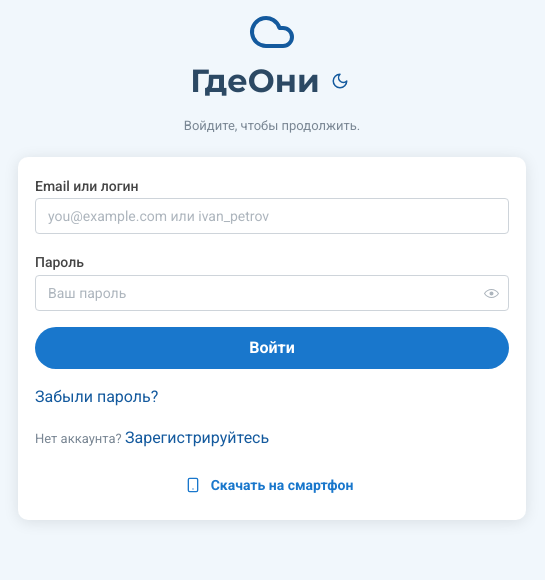
Scenario: LoginPage › shows validation errors for empty submit
Click the button "Войти": (272, 348) [35, 327, 509, 369]
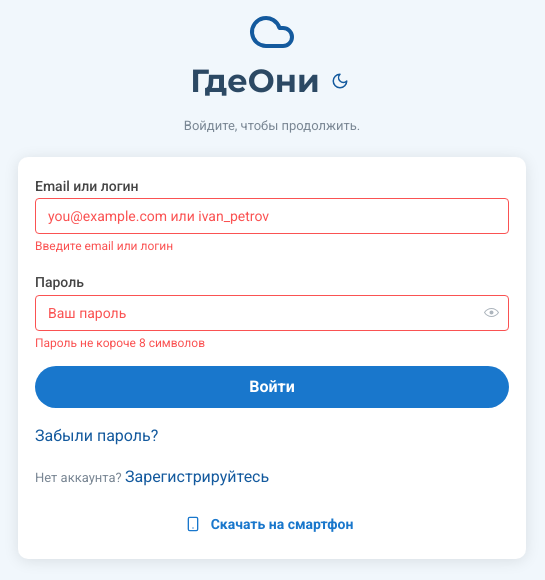
Check: the text "Введите email или логин" is shown, box [35, 239, 173, 253]
